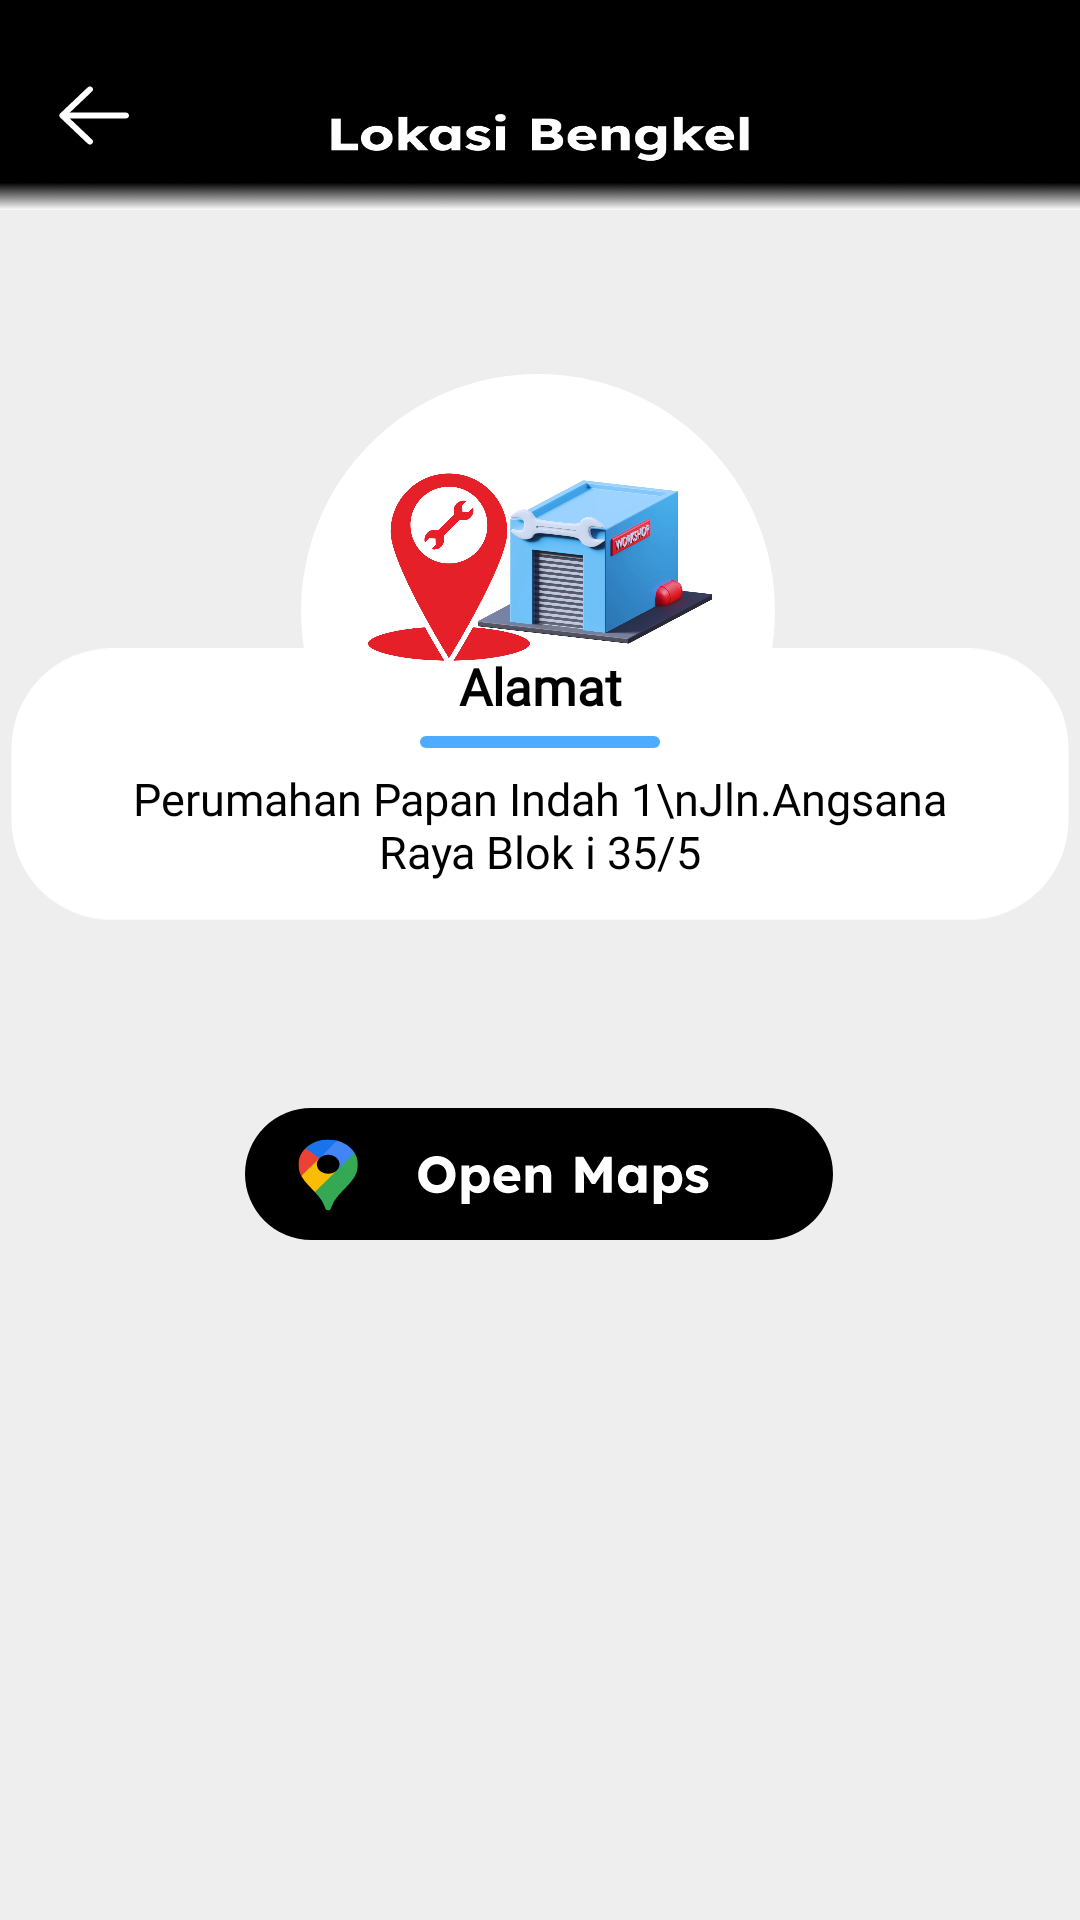

Locate icon controls on the screen. Image size 1080*1920, boxes as rect(x1, y1, x2, y2).
back: rect(59, 86, 129, 145)
